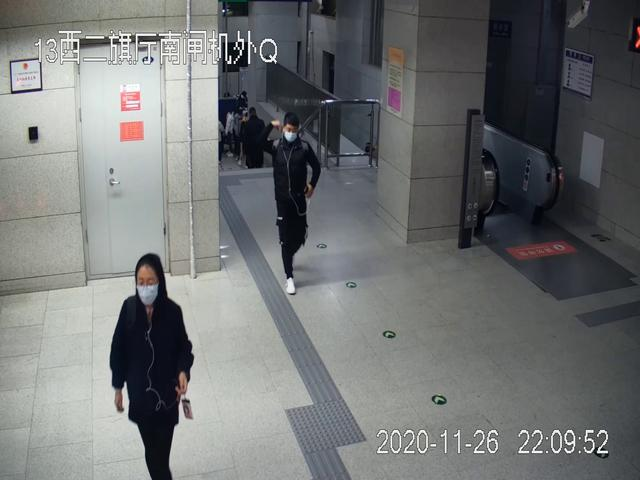person: (111, 253, 195, 480), (275, 114, 321, 295)
